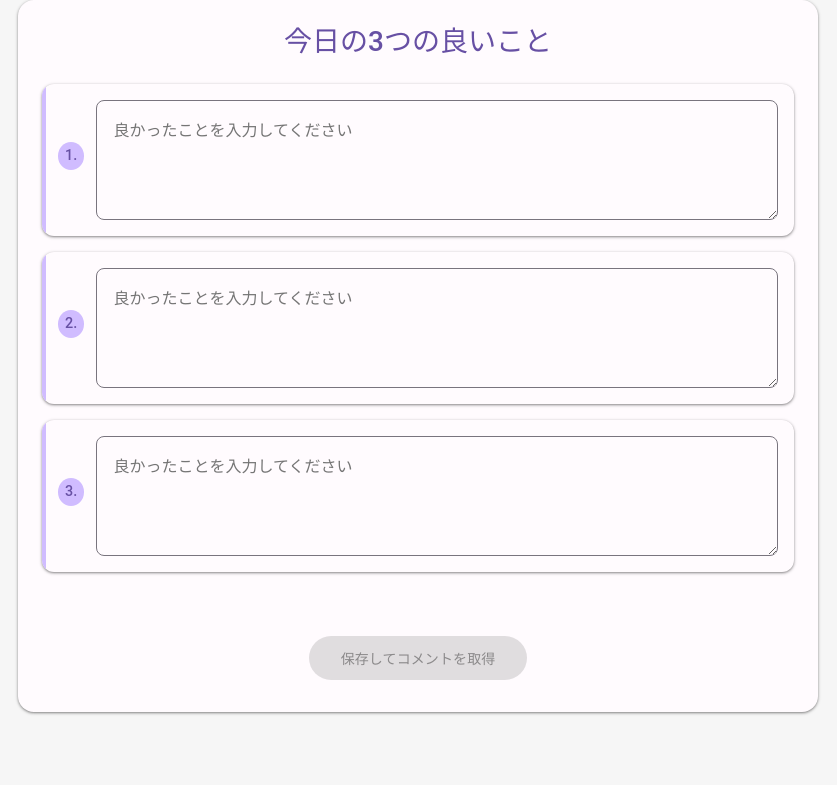
EntryForm コンポーネント › 文字数が上限を超えるとエラーが表示され、保存ボタンが無効になる
This screenshot has width=837, height=785.
Type "これは10文字を超える長いテキストです" into the text box labelled "1." at (437, 160), box [96,100,778,220]
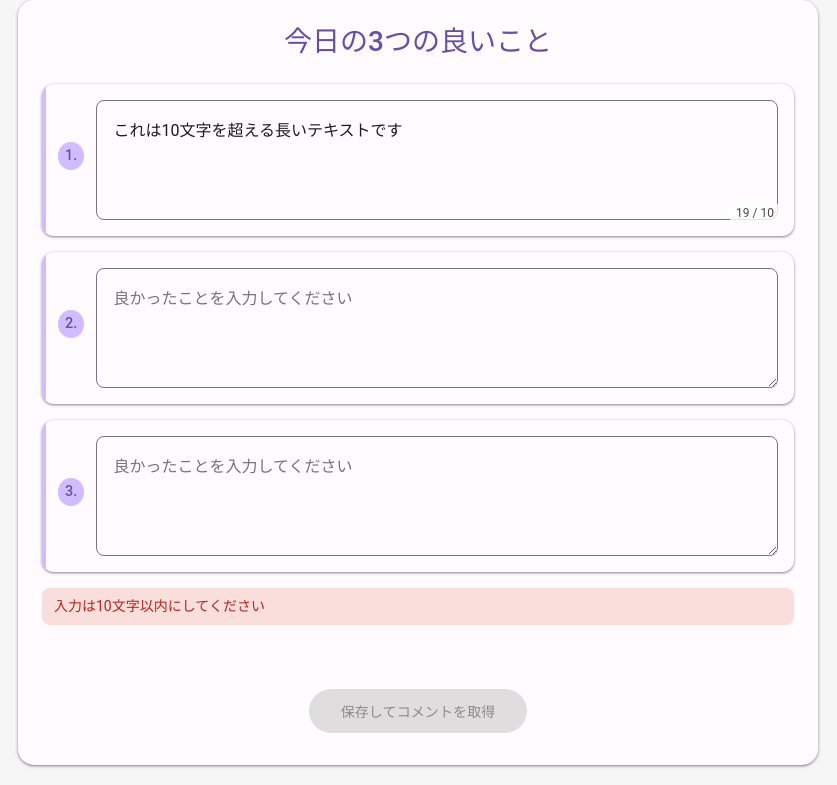
Expected: the button "保存してコメントを取得" is disabled, [309,689,527,733]
Result: the text "入力は10文字以内にしてください" is shown at [42,588,794,625]
